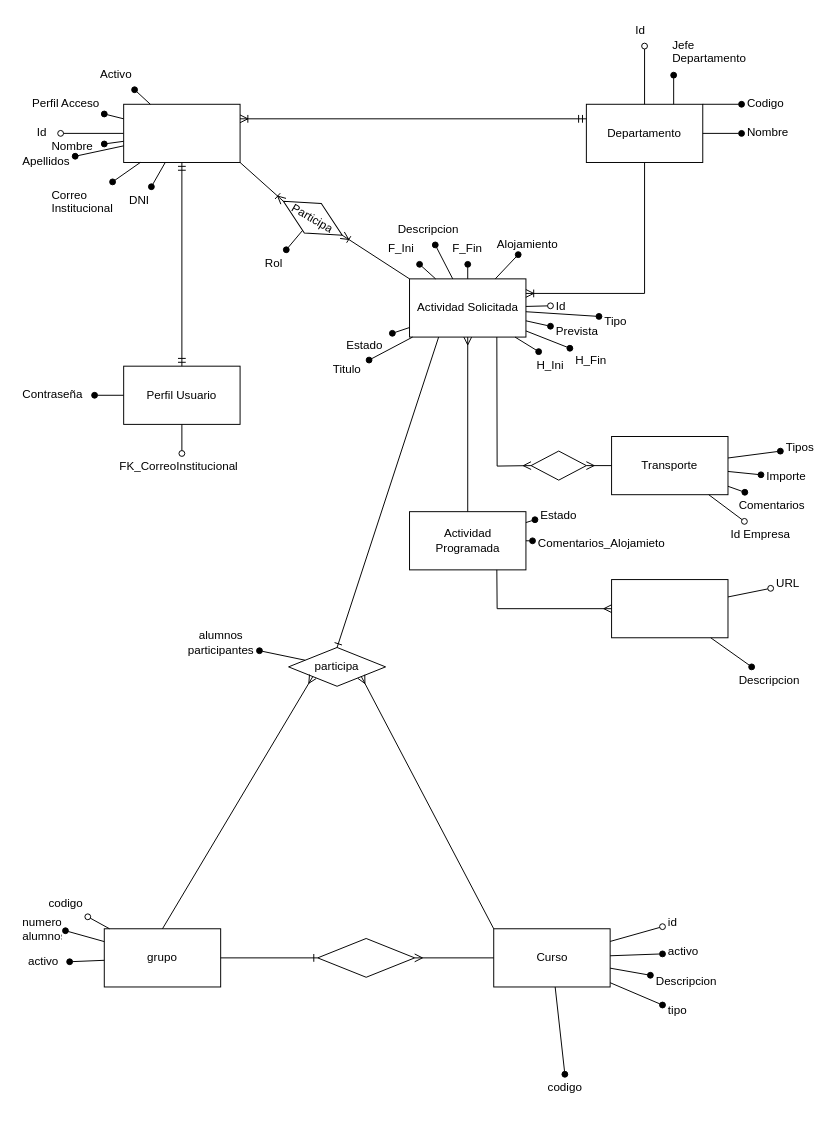
The diagram is 835 pixels wide and 1122 high, and some of its shapes have lost their labels. Each missing label, with the centre of its shape:
"compuesto" goes at (366,957).
"Fotos" goes at (669,608).
"Profesor" goes at (181,132).
"Tiene" goes at (558,465).
